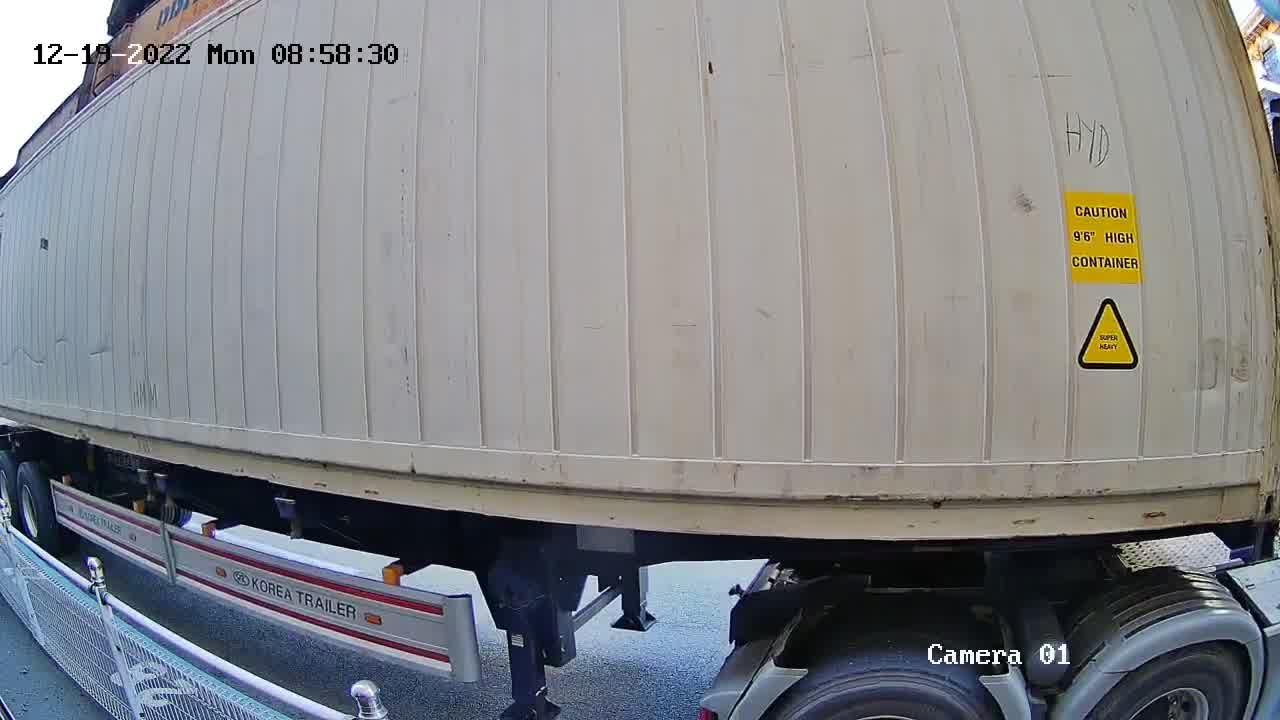Cone: (1235, 525, 1277, 564)
Hole_R: (1230, 460, 1279, 521)
Tire: (774, 669, 992, 715), (1099, 652, 1241, 713)
